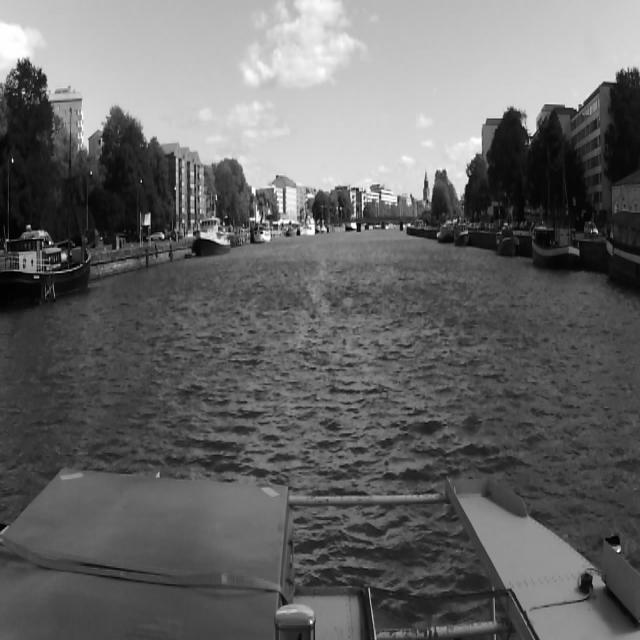ship: (2, 235, 90, 301), (604, 212, 640, 288), (532, 227, 578, 265), (195, 220, 233, 255), (492, 218, 516, 258), (255, 223, 271, 243)
